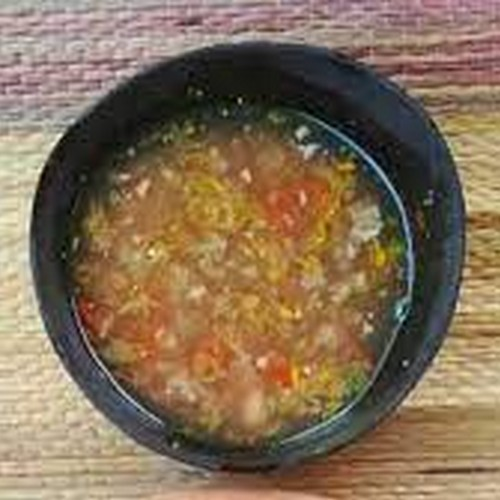komoh: (96, 124, 380, 407)
